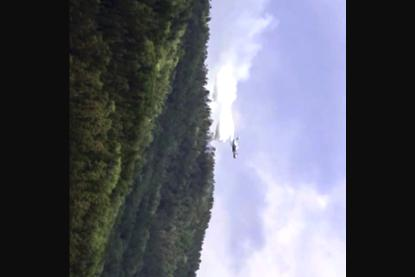B52: (232, 132, 240, 158)
